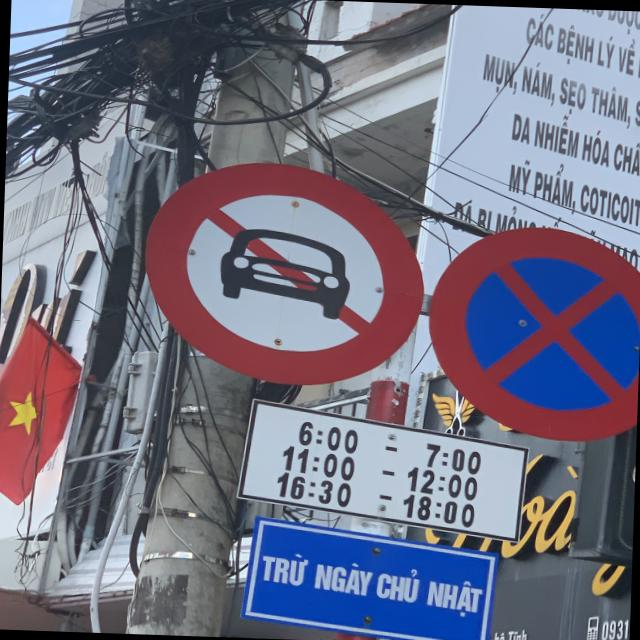Cam_Dung_Va_Dau_Xe: (424, 223, 640, 442)
Cam_O_To: (140, 158, 428, 390)
